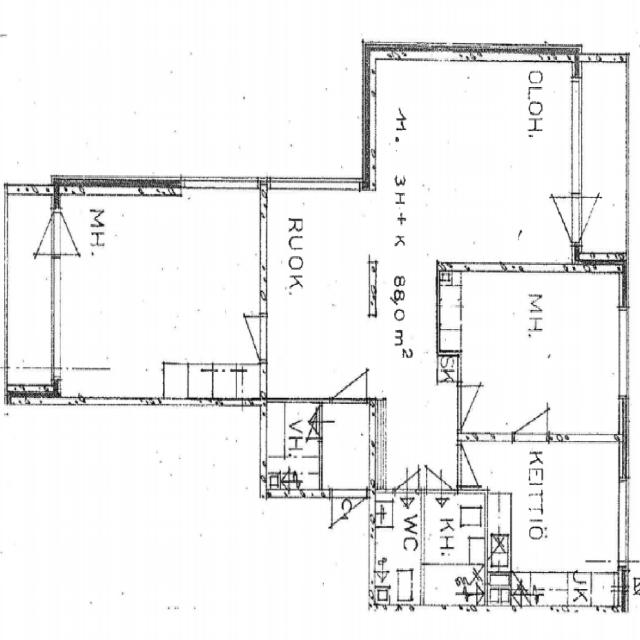door: (571, 197, 615, 244), (538, 197, 581, 244), (332, 489, 366, 545), (332, 351, 366, 404), (514, 388, 547, 442), (20, 212, 60, 255), (52, 212, 92, 255), (228, 317, 266, 360), (457, 386, 492, 429), (457, 444, 490, 486), (427, 454, 452, 493), (394, 456, 418, 493), (295, 406, 322, 438)
